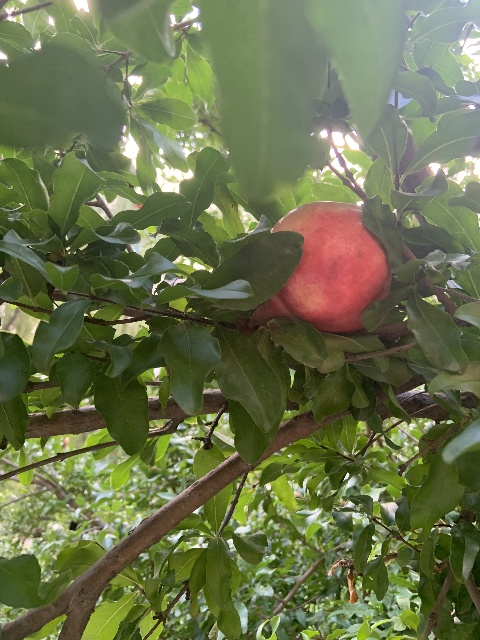ripe: (246, 203, 391, 334)
